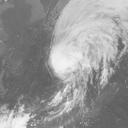cyclone: (50, 24, 110, 82)
